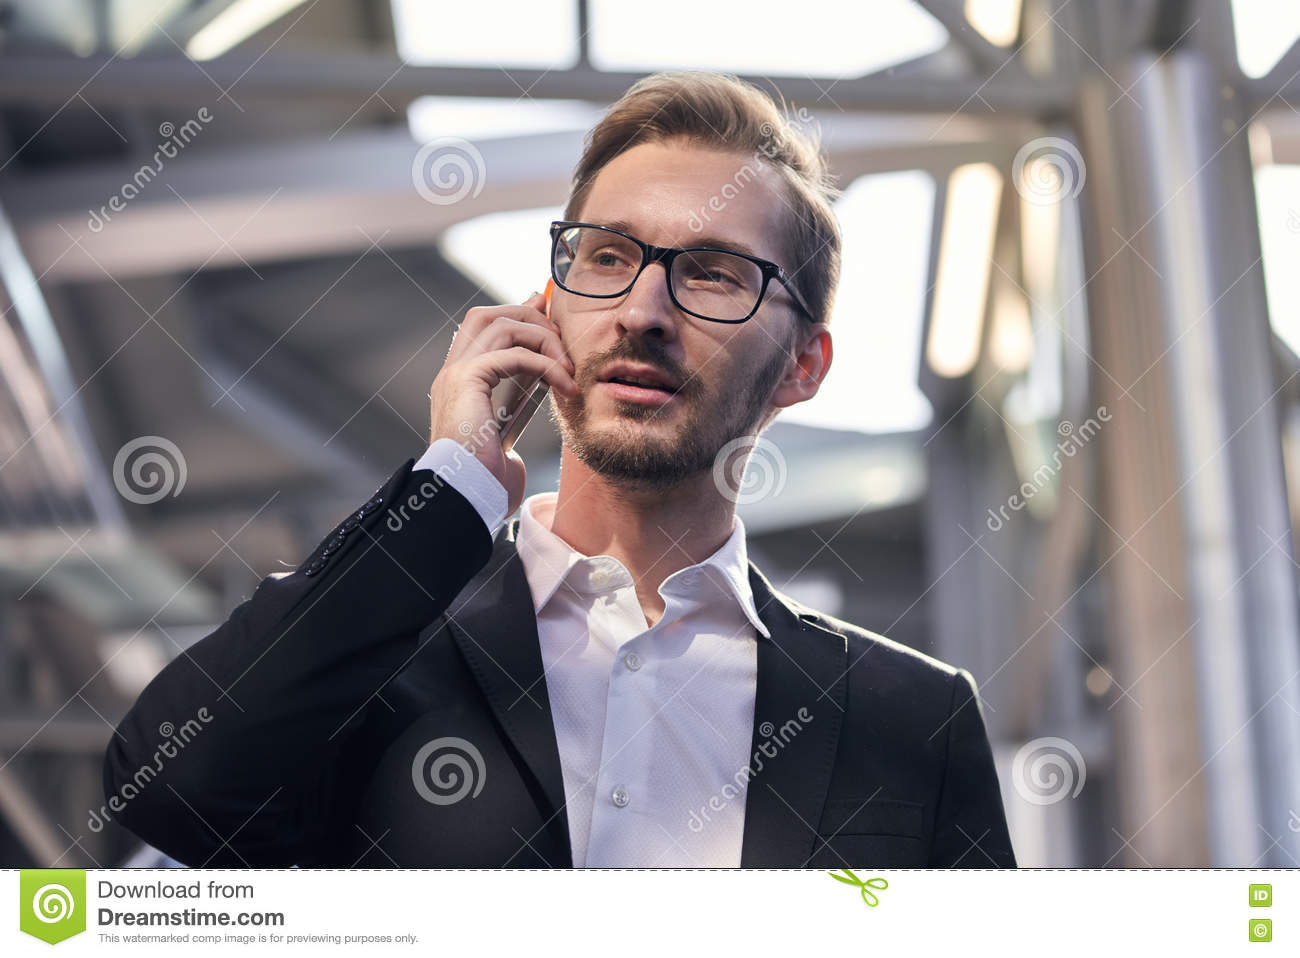phone: (488, 276, 550, 453)
talk: (429, 209, 795, 535)
